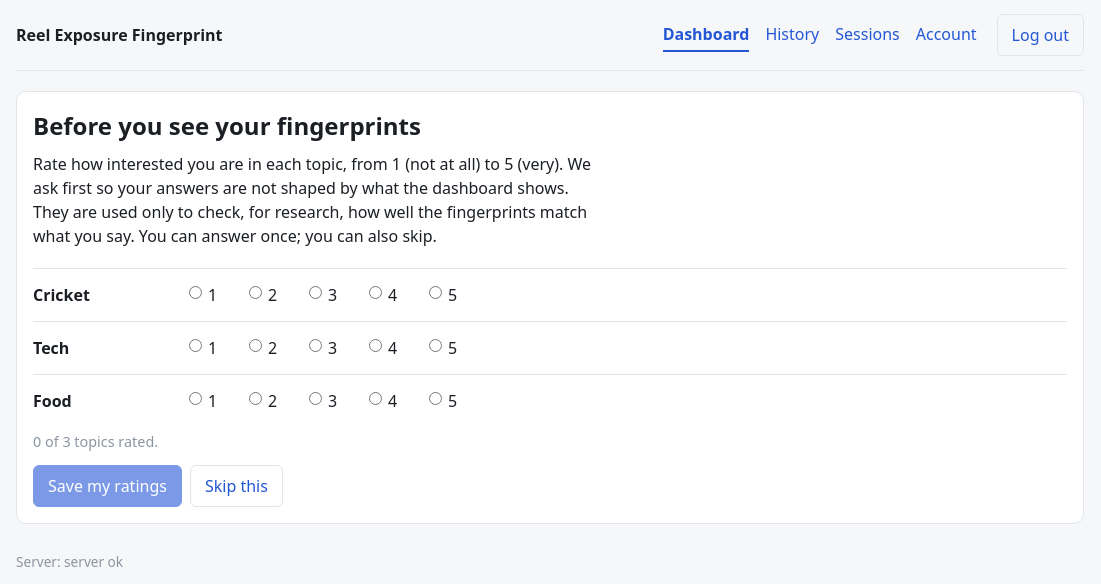
Test case: self-report survey › needs every topic rated before it can be saved
The image size is (1101, 584).
Expected: the button "Save my ratings" is disabled, [33, 465, 182, 507]
Expected: the text "0 of 3 topics rated." is shown, [33, 432, 158, 451]
Click the radio button labelled "5" in the row of "Cricket" at (436, 292), box [429, 286, 442, 298]
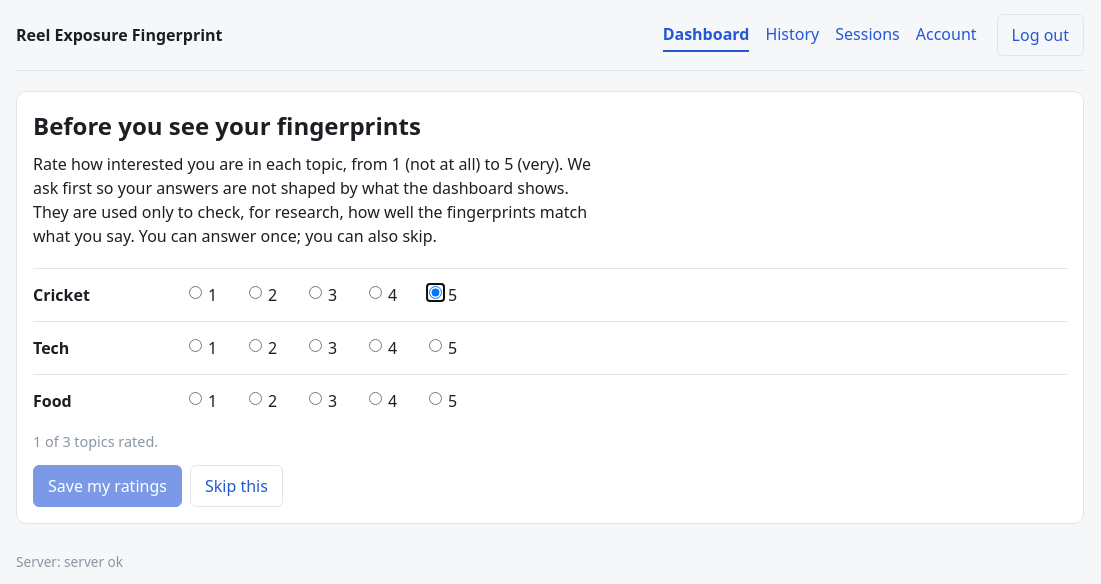
Click the radio button labelled "3" in the row of "Tech" at (316, 345), box [309, 338, 322, 352]
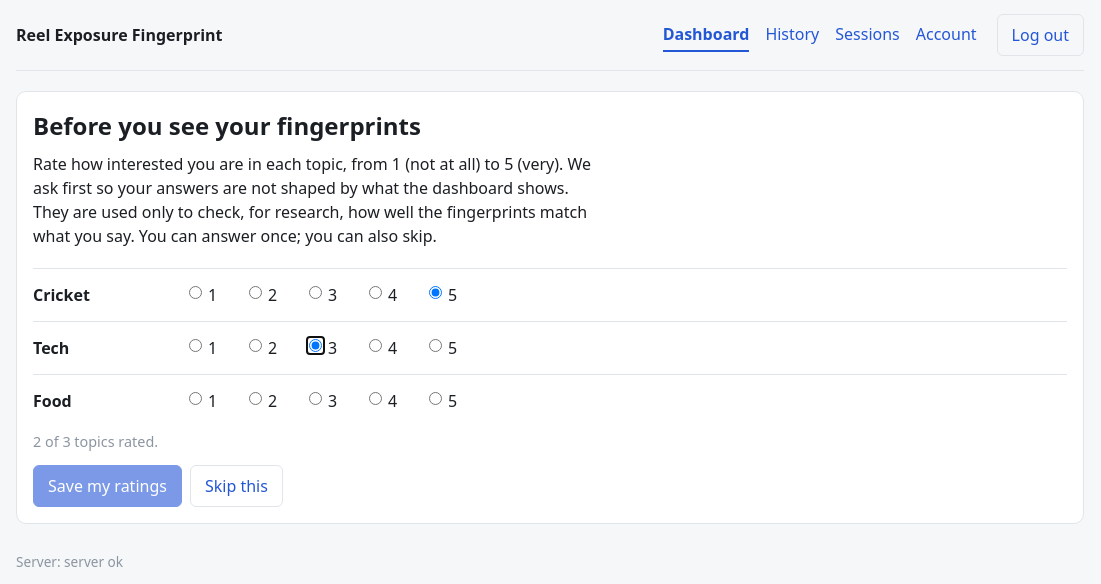
Expected: the button "Save my ratings" is disabled, [33, 465, 182, 507]
Expected: the text "2 of 3 topics rated." is shown, [33, 432, 158, 451]
Click the radio button labelled "1" next to "Food" at (196, 398), box [189, 392, 202, 404]
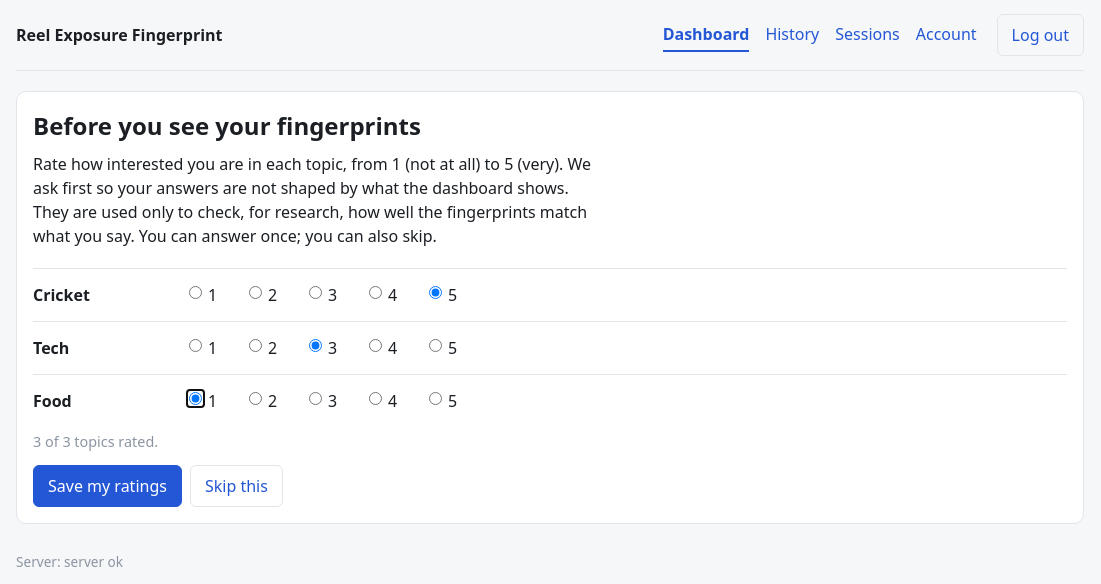
Expected: the button "Save my ratings" is enabled, [33, 465, 182, 507]
